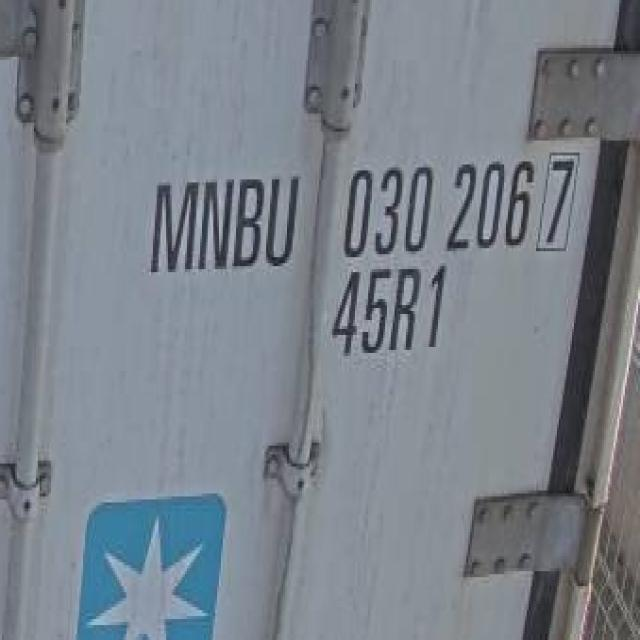dv: (537, 150, 582, 260)
owner: (136, 168, 300, 278)
serial: (337, 155, 536, 257)
size: (324, 263, 450, 359)
